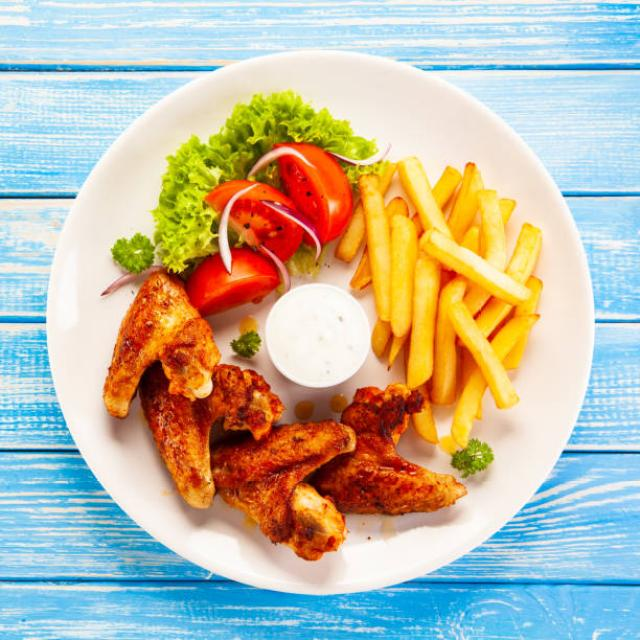Frango: (104, 272, 470, 565)
